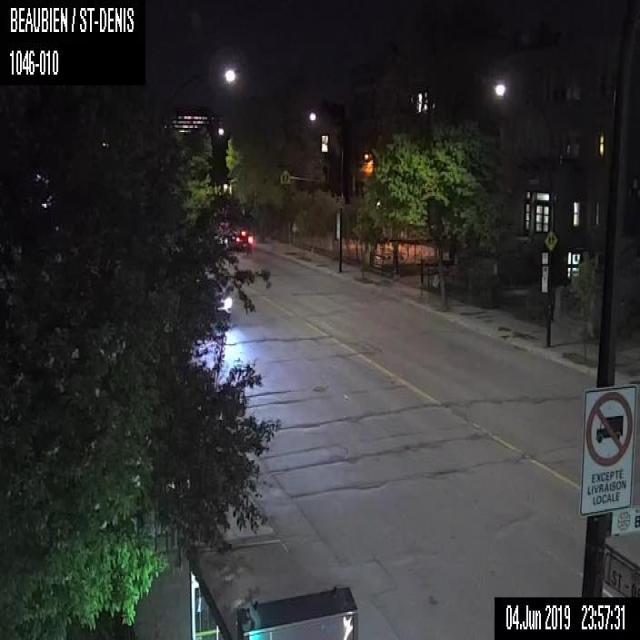vehicle: (214, 288, 232, 327), (232, 223, 254, 252)
